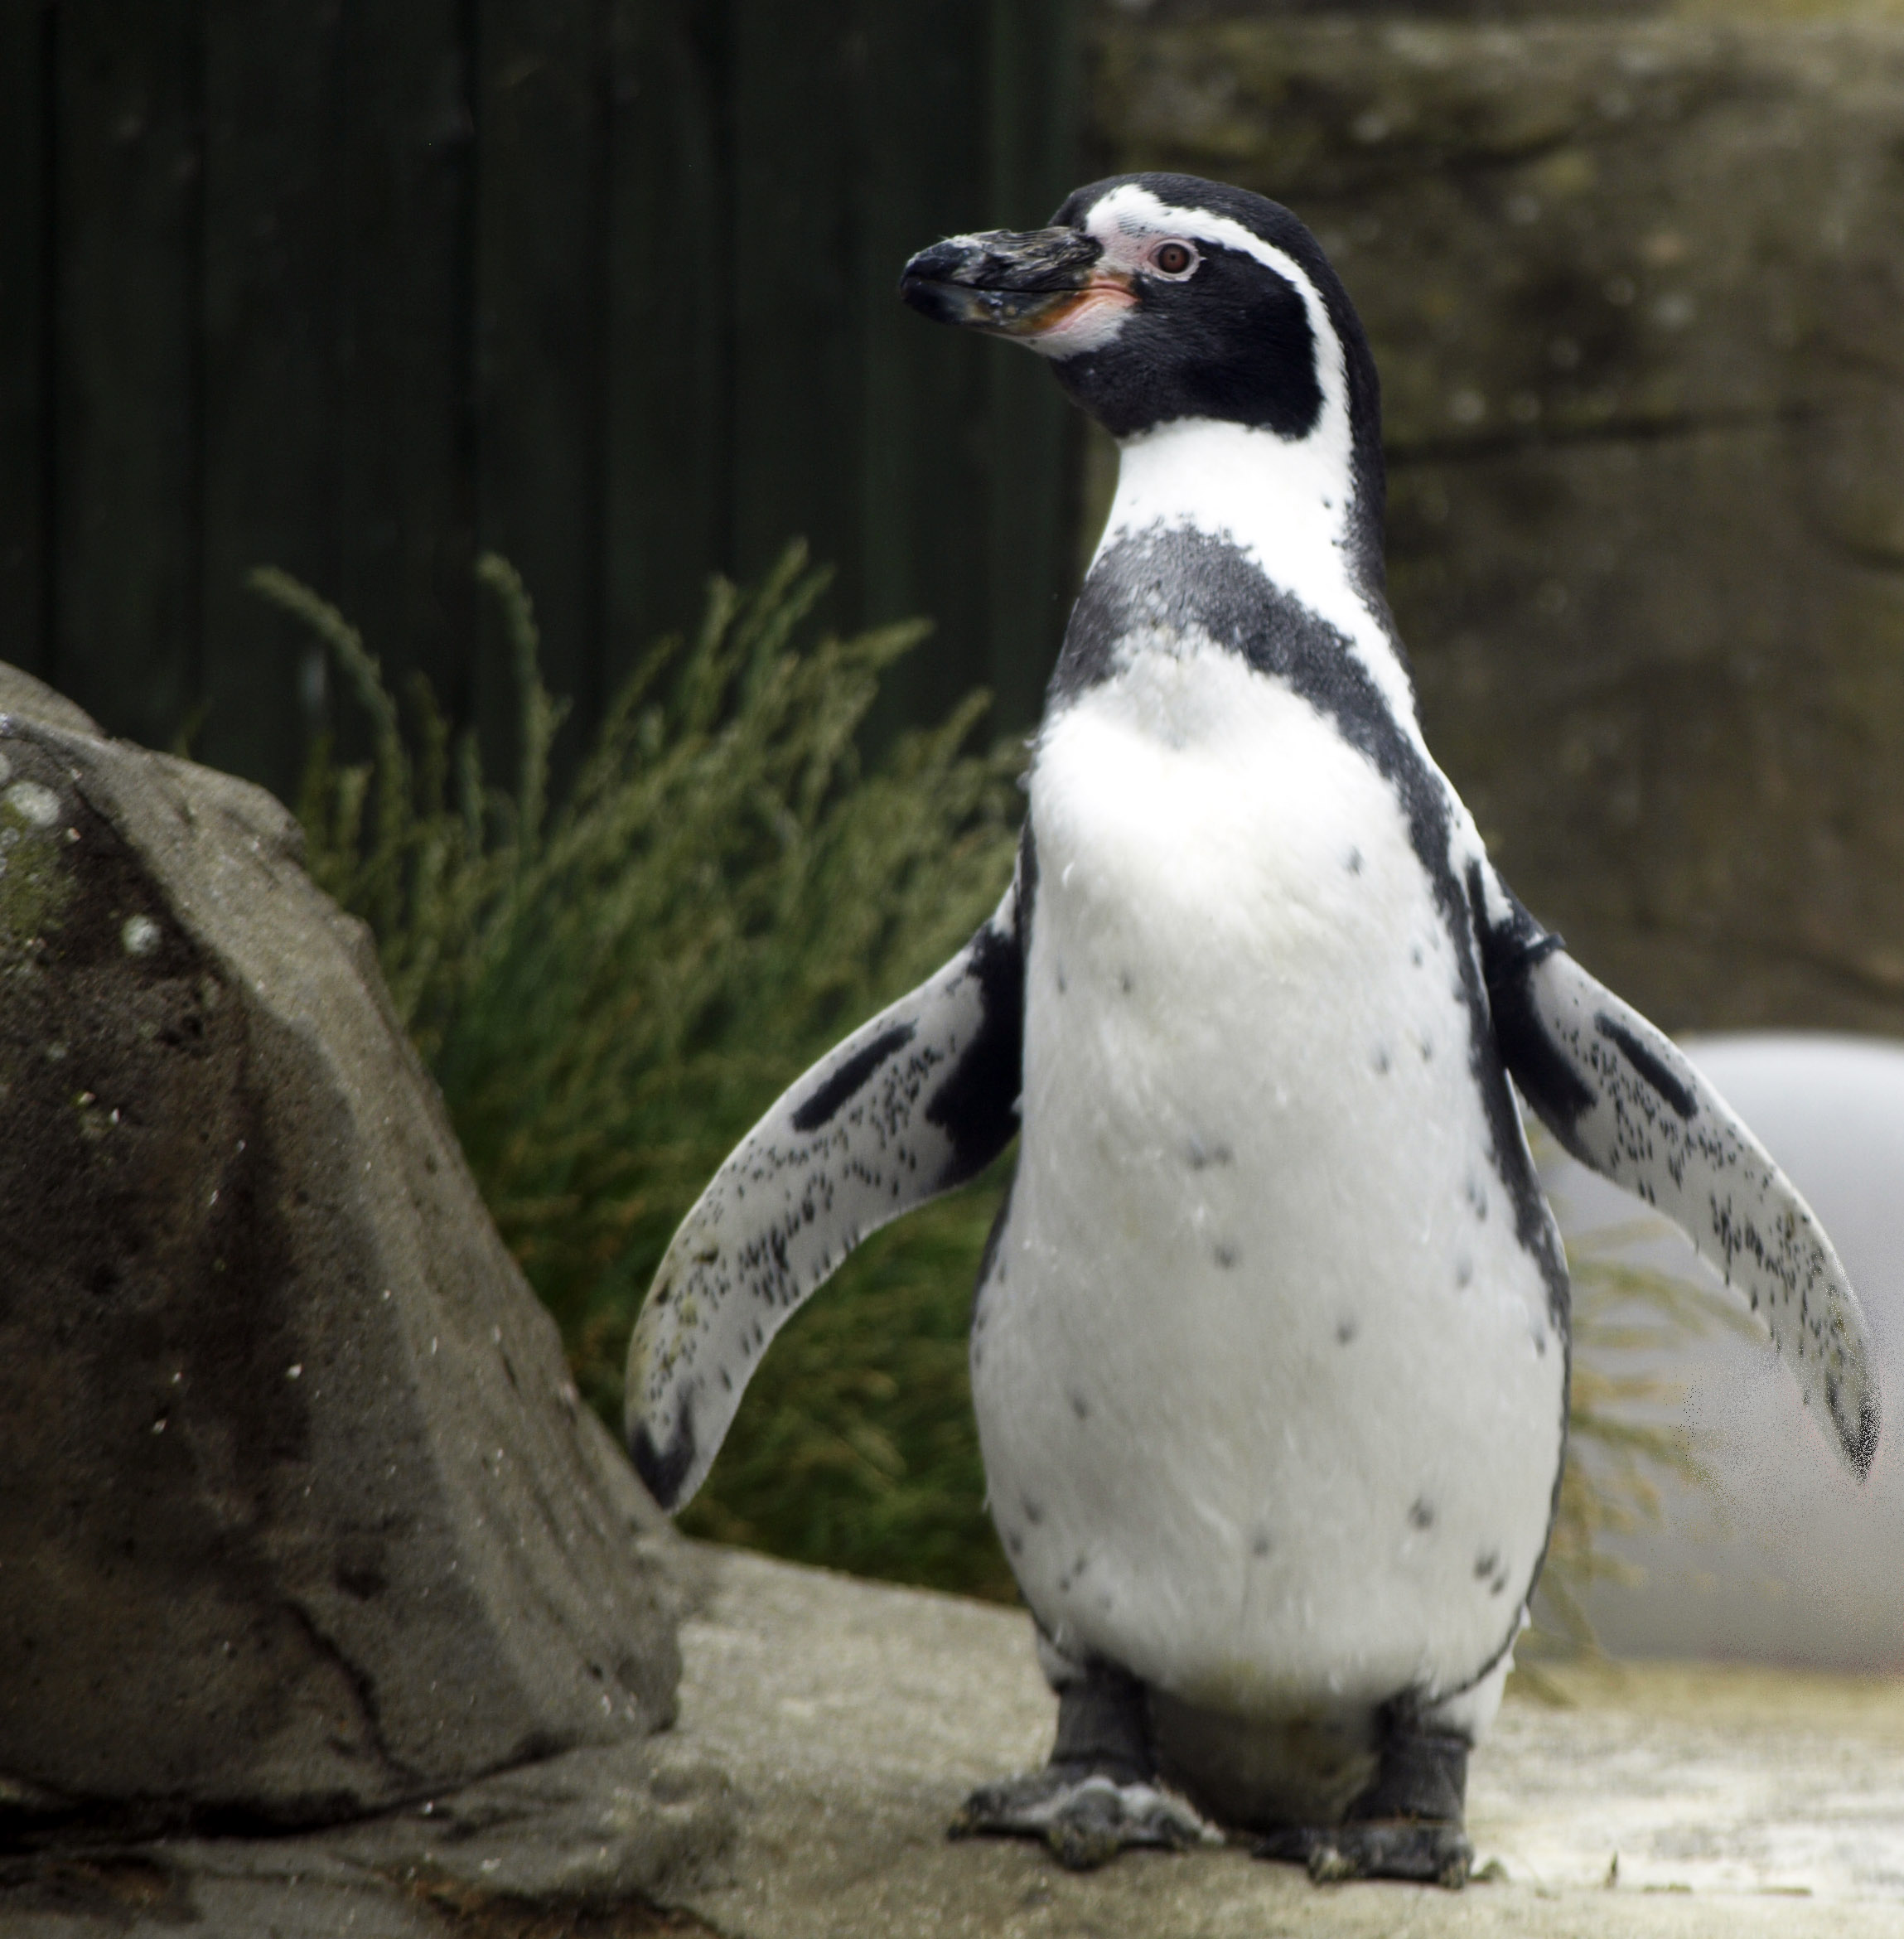penguin: (617, 164, 1904, 1909)
